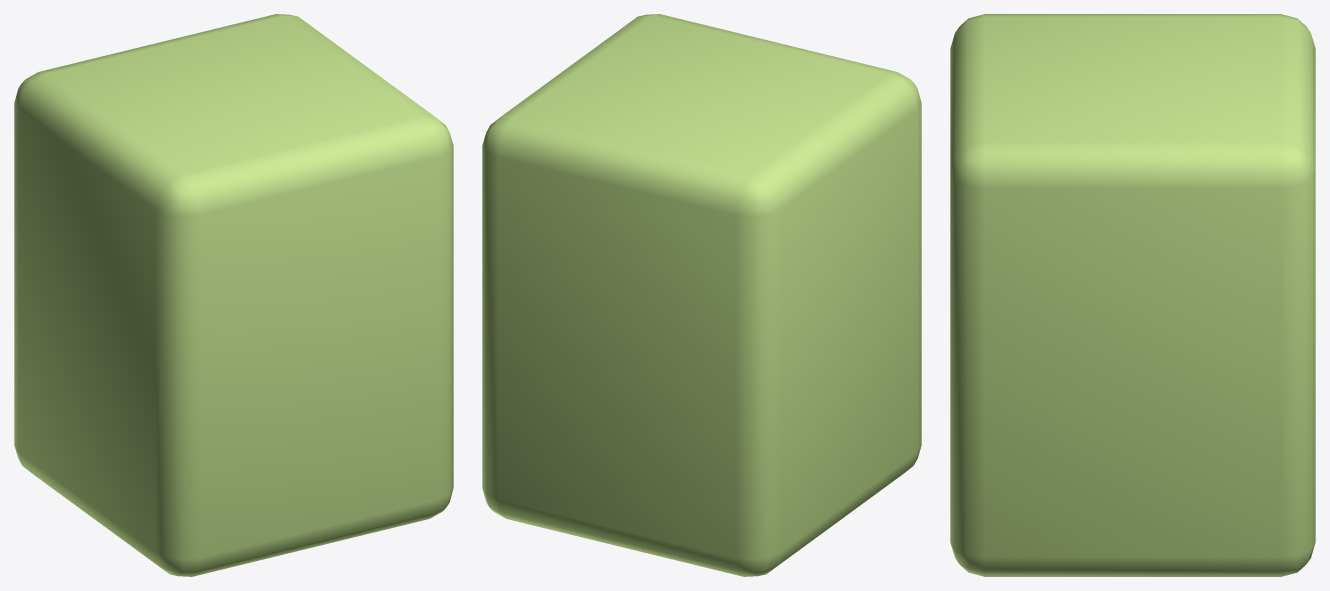
The model's file is plinth.gltf.
3 renders of one model, left to right at view 1: azimuth 30°, elevation 25°; view 2: azimuth 150°, elevation 25°; view 3: azimuth 270°, elevation 25°, orthographic. The views are drawn at different scales.
Parts seen in each view (by area): view 1: Terrain_convex_collider; view 2: Terrain_convex_collider; view 3: Terrain_convex_collider.
Boxes of the visible parts, box(x1,y1,x2,y2) form: Terrain_convex_collider: box(14, 14, 453, 576); Terrain_convex_collider: box(482, 14, 921, 576); Terrain_convex_collider: box(950, 14, 1315, 576).
Size of the model in its own units: 2 by 2.61 by 2.
